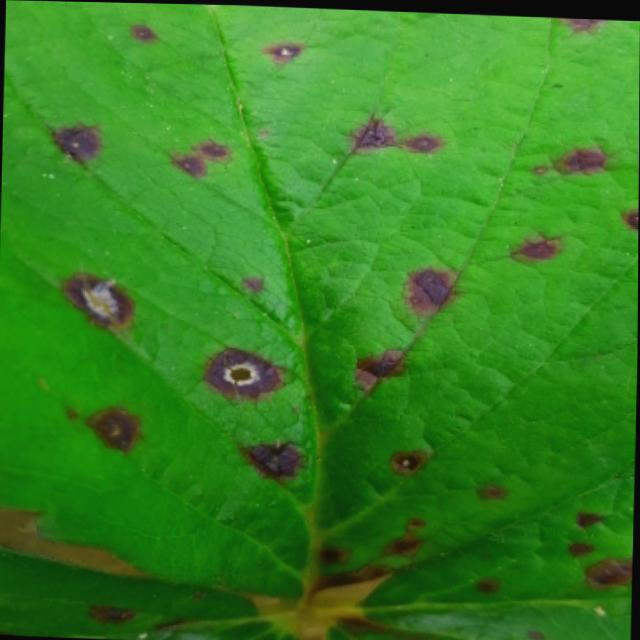Leaf Spot: (0, 0, 640, 598), (328, 459, 635, 640), (0, 543, 302, 640)
